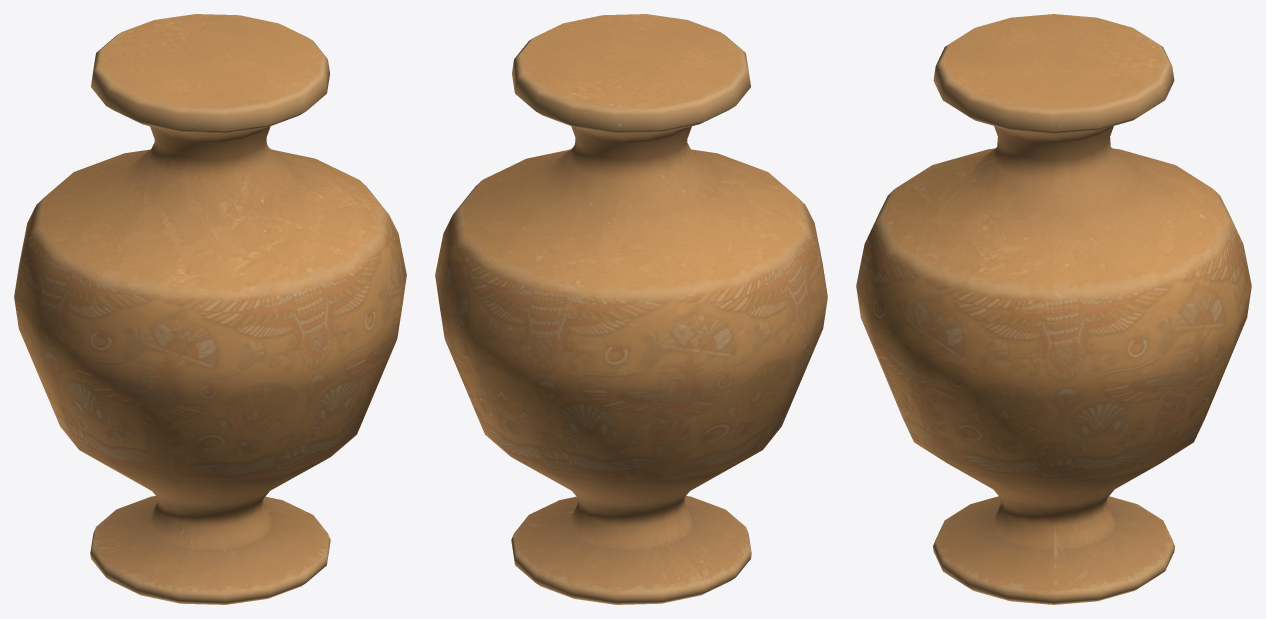
The model's file is Prop_Pot_A.fbx.
The picture shows the model from 3 angles, left to right: view 1: azimuth 30°, elevation 25°; view 2: azimuth 150°, elevation 25°; view 3: azimuth 270°, elevation 25°; orthographic projection.
Visible parts, largest first — view 1: Pot_A; view 2: Pot_A; view 3: Pot_A.
Part boxes in pixels (box(x1,y1,x2,y2)): Pot_A: box(14, 14, 406, 604); Pot_A: box(435, 14, 827, 604); Pot_A: box(856, 14, 1251, 604).
Bounding box in the file's own units: 72.38 × 100 × 72.38.
Materials: 1 (1 with a texture image).
